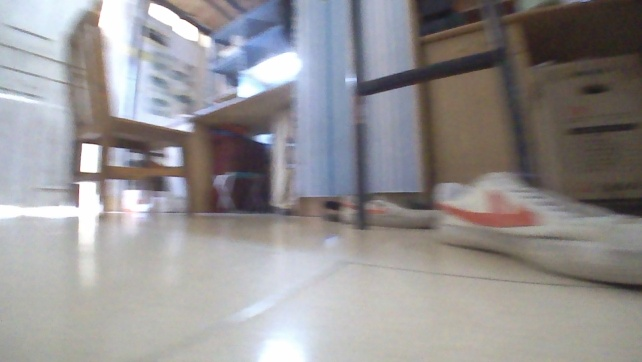shoe: (429, 167, 641, 290)
